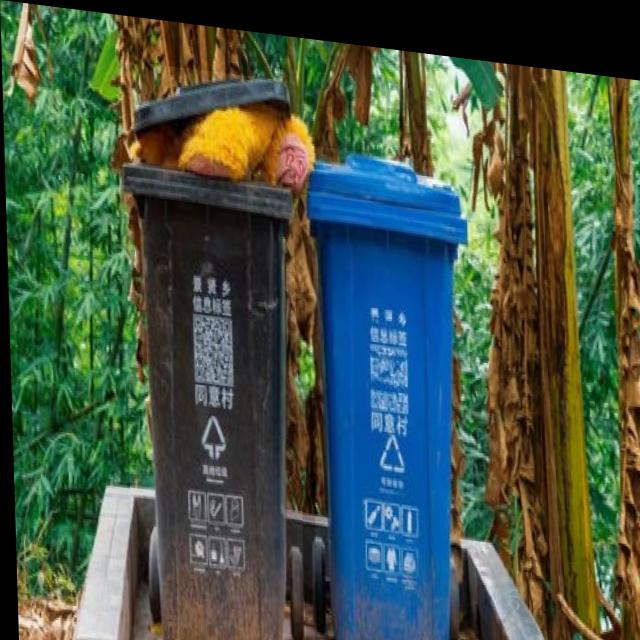garbage_bin: (303, 137, 476, 640)
overflow: (117, 57, 303, 640)
